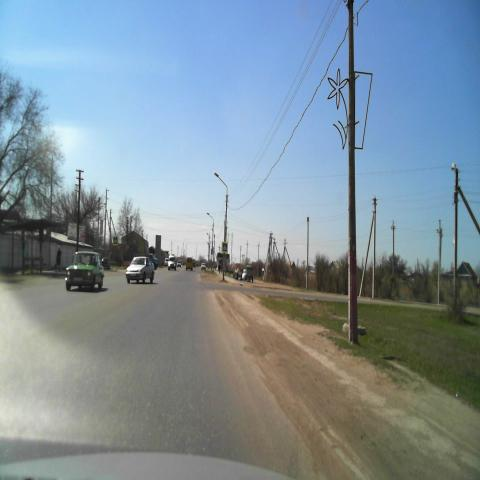5_19_1: (222, 241, 228, 252), (112, 236, 118, 246)
